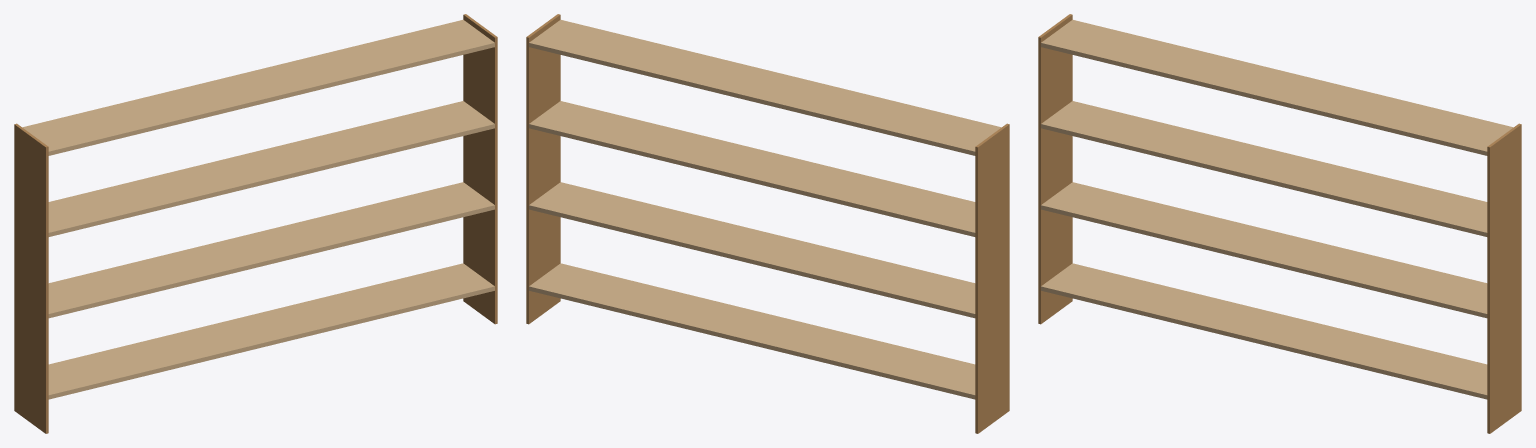
3 views of the same model, side by side, from view 1: azimuth 30°, elevation 25°; view 2: azimuth 150°, elevation 25°; view 3: azimuth 330°, elevation 25° (orthographic).
Visible parts, largest first — view 1: estante_storage; view 2: estante_storage; view 3: estante_storage.
Part boxes in pixels (left/top/right/bottom): estante_storage: left=14, top=14, right=497, bottom=433; estante_storage: left=526, top=14, right=1009, bottom=433; estante_storage: left=1038, top=14, right=1521, bottom=433.
Bounding box in the file's own units: 3.3 × 0.4 × 2.
